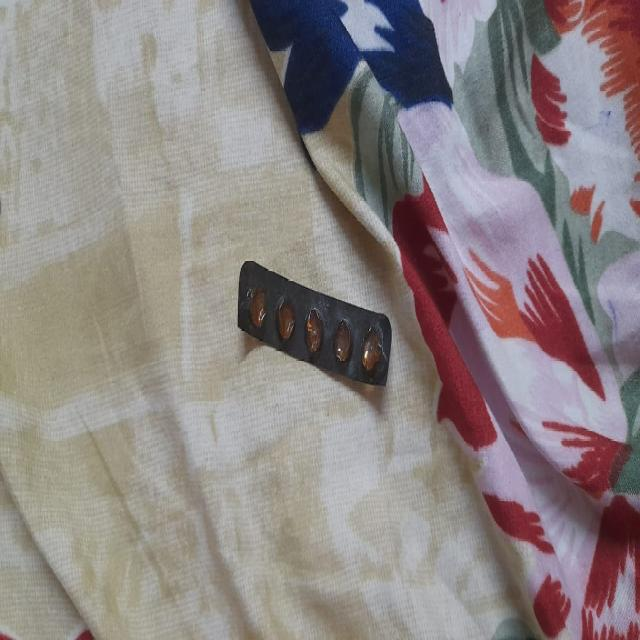Blister_Packs - Non Recyclable: (232, 250, 398, 423)
